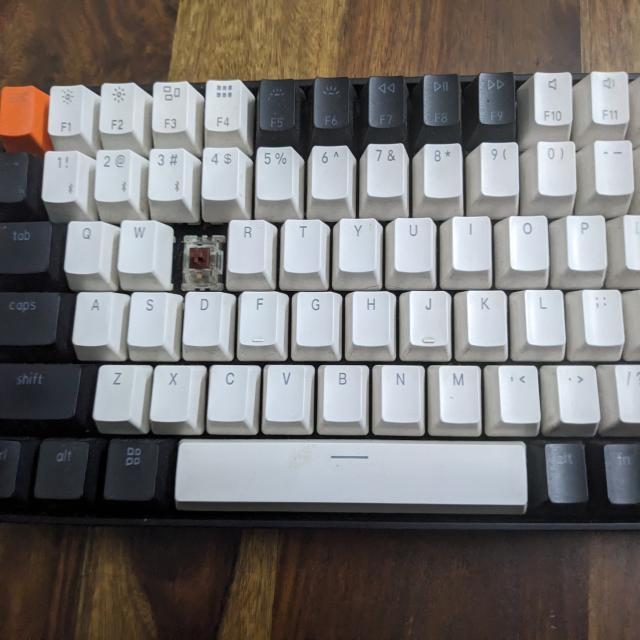key-switch: (180, 230, 220, 289)
